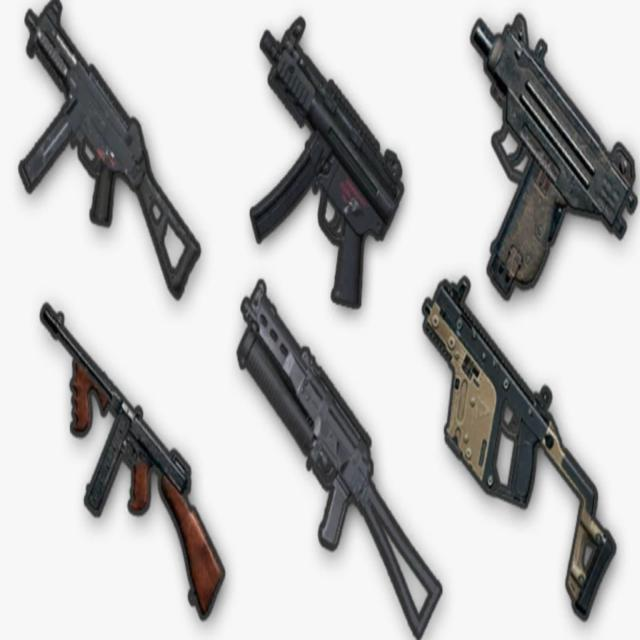weapon: (237, 280, 446, 640), (419, 270, 620, 627), (39, 298, 226, 618), (15, 1, 202, 304), (463, 6, 639, 312), (250, 12, 404, 312)
